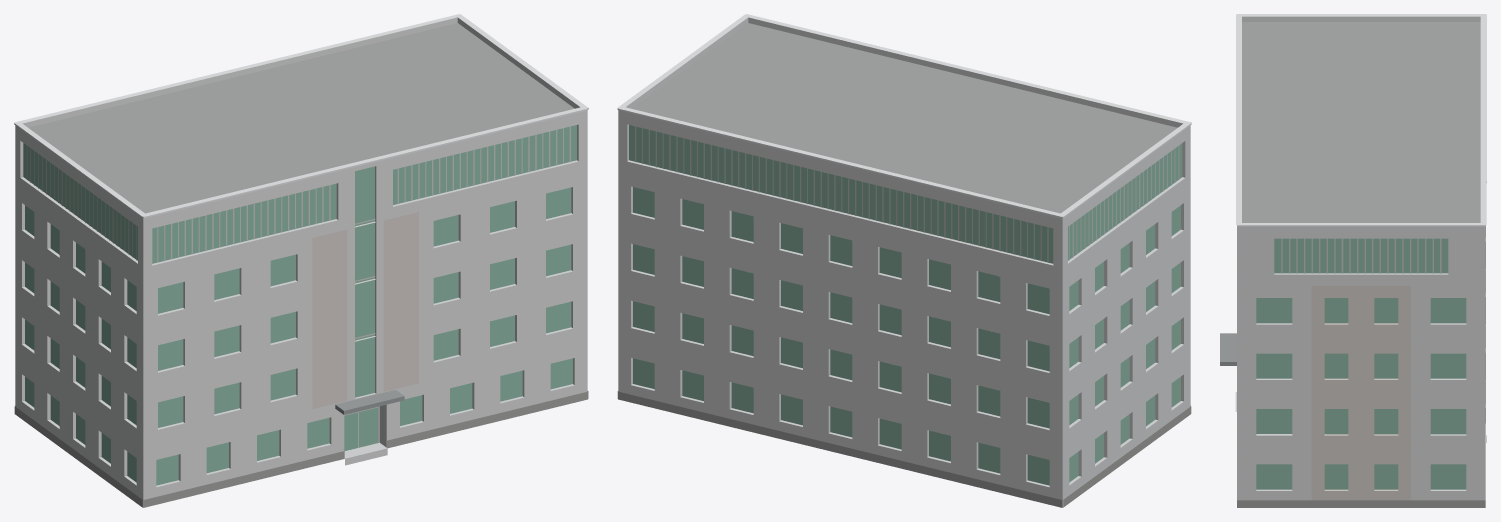
3 renders of one model, left to right at view 1: azimuth 30°, elevation 25°; view 2: azimuth 150°, elevation 25°; view 3: azimuth 270°, elevation 25°, orthographic. The views are drawn at different scales.
Parts seen in each view (by area): view 1: b117908733__wall, b117908733__roof, b117908733__glass, b117908733__wall2, b117908733__parapet, b117908733__trim, b117908733__frame, b117908733__base, b117908733__canopy; view 2: b117908733__wall, b117908733__roof, b117908733__glass, b117908733__parapet, b117908733__trim, b117908733__frame, b117908733__base; view 3: b117908733__roof, b117908733__wall, b117908733__glass, b117908733__wall2, b117908733__trim, b117908733__parapet, b117908733__base, b117908733__frame, b117908733__canopy.
Part boxes in pixels (x1,y1,x2,y2): b117908733__wall: (15,114,587,507); b117908733__roof: (28,23,574,507); b117908733__glass: (23,125,576,485); b117908733__wall2: (312,212,418,409); b117908733__parapet: (15,17,587,221); b117908733__trim: (14,14,588,218); b117908733__frame: (26,126,570,447); b117908733__base: (14,391,588,507); b117908733__canopy: (335,390,404,414); b117908733__wall: (618,113,1190,507); b117908733__roof: (631,23,1177,213); b117908733__glass: (629,125,1182,485); b117908733__parapet: (618,17,1190,221); b117908733__trim: (617,14,1191,218); b117908733__frame: (635,126,1179,262); b117908733__base: (617,391,1191,507); b117908733__roof: (1242,22,1480,222); b117908733__wall: (1237,225,1485,500); b117908733__glass: (1256,238,1466,489); b117908733__wall2: (1311,286,1410,500); b117908733__trim: (1236,14,1486,226); b117908733__parapet: (1237,16,1485,230); b117908733__base: (1237,435,1486,507); b117908733__frame: (1281,238,1441,273); b117908733__canopy: (1220,333,1236,365).
Size of the model in its own units: 29.44 by 18.75 by 15.7.
